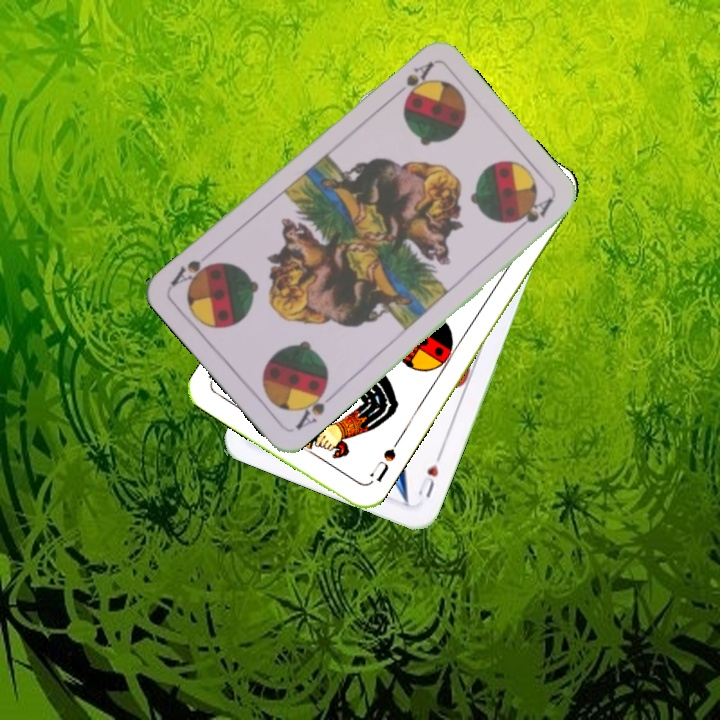HU: (413, 449, 445, 502)
SA: (291, 381, 338, 433), (387, 57, 437, 102)
SU: (366, 435, 403, 485)
